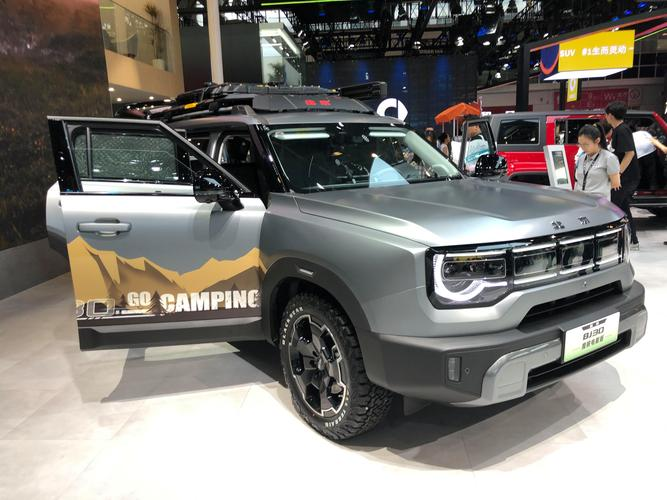汽车: (47, 83, 660, 449)
